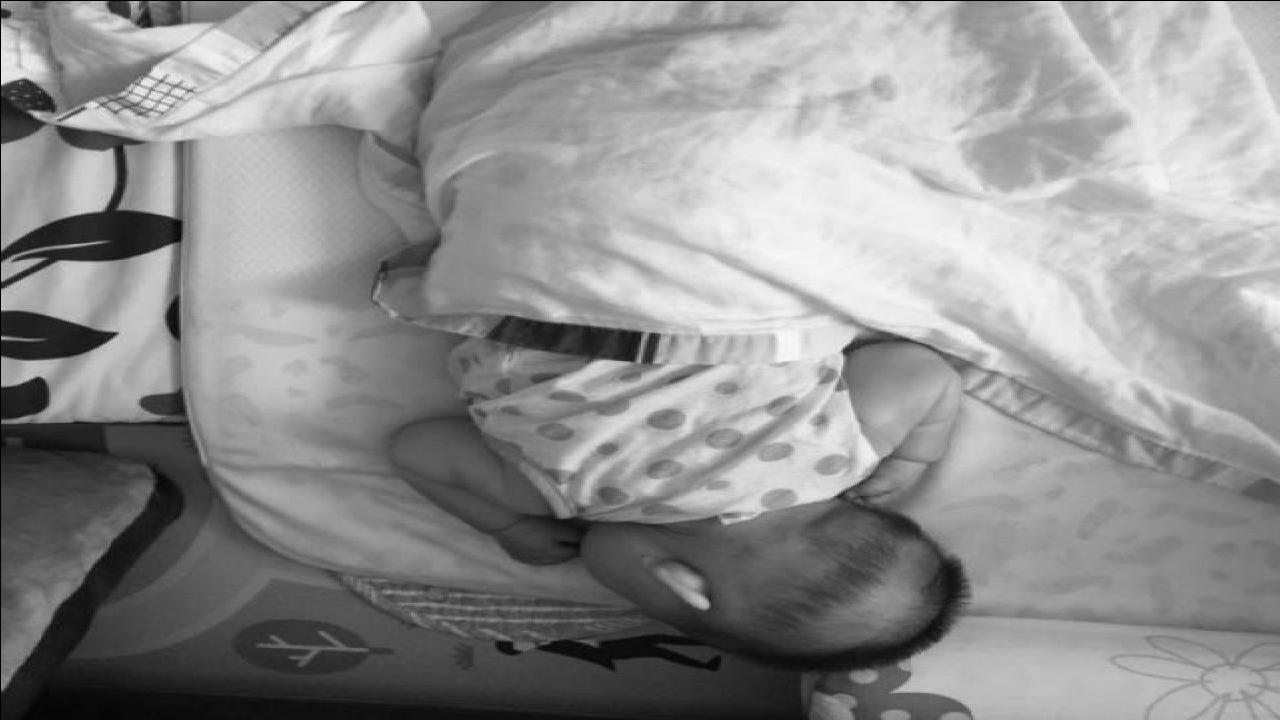hand: (493, 523, 587, 573), (847, 454, 931, 504)
